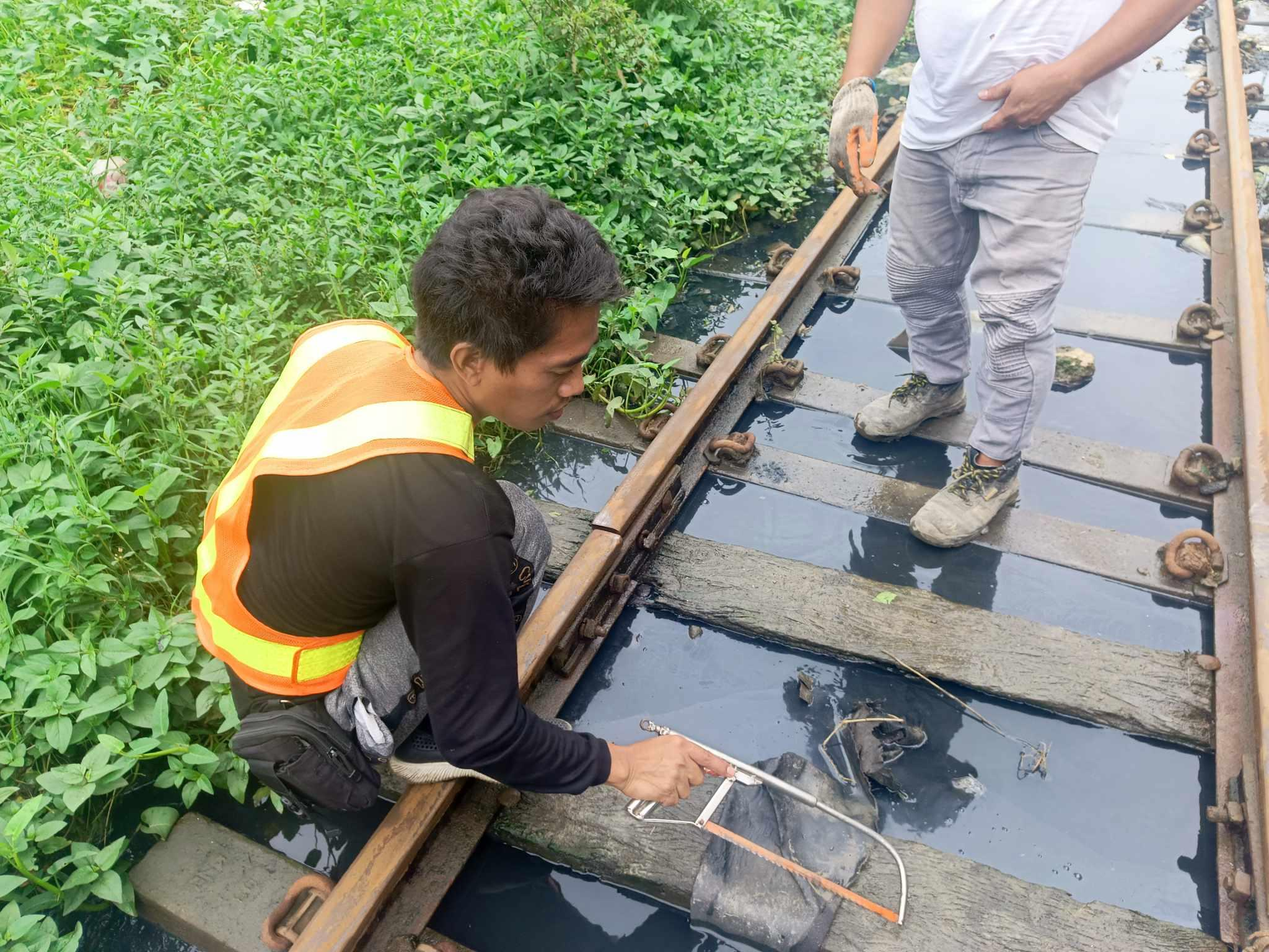railway-gap: (549, 485, 662, 572)
